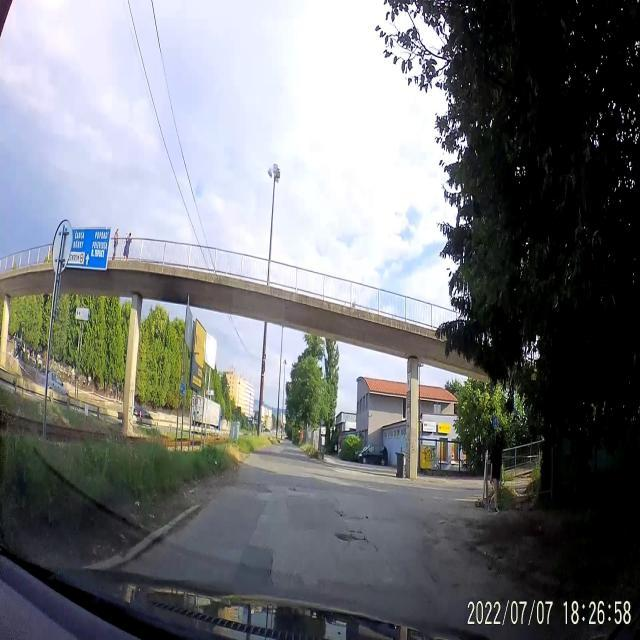Pothole: (334, 496, 377, 527), (333, 522, 377, 552)
